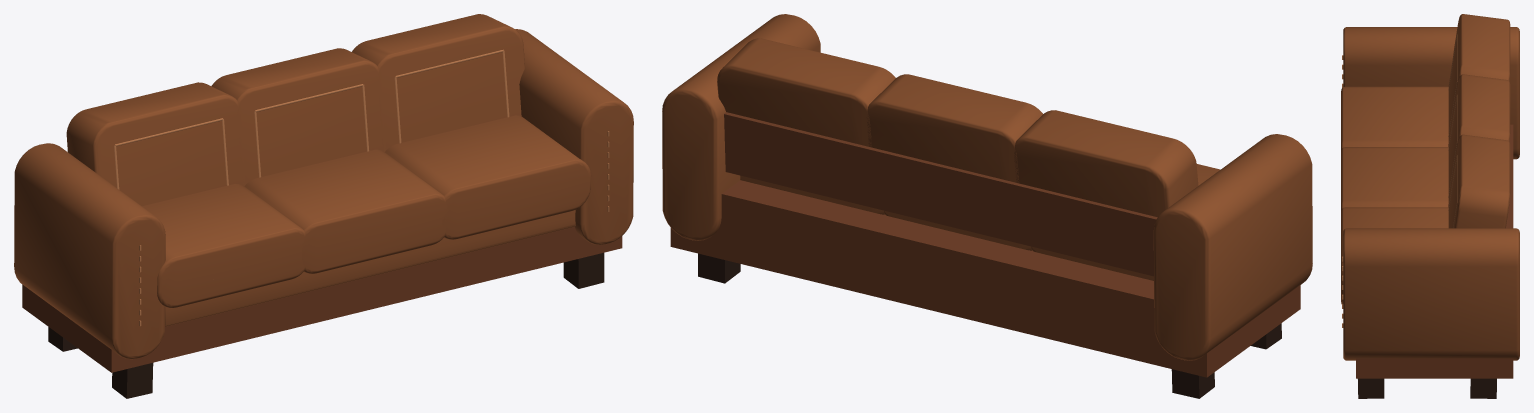
Rendered from cognac-leather-sofa-armRadius-max.glb.
3 views of the same model, side by side, from view 1: azimuth 30°, elevation 25°; view 2: azimuth 150°, elevation 25°; view 3: azimuth 270°, elevation 25° (orthographic). The views are drawn at different scales.
Visible parts, largest first — view 1: sofa-part-28, sofa-part-4, back-cushion-3-part-0, seat-cushion-1-part-0, seat-cushion-2-part-0, back-cushion-1-part-0, back-cushion-2-part-0, seat-cushion-3-part-0, sofa-part-7, sofa-part-5, sofa-part-0, sofa-part-2; view 2: sofa-part-4, sofa-part-6, sofa-part-28, back-cushion-3-part-0, back-cushion-1-part-0, back-cushion-2-part-0, sofa-part-7, sofa-part-3, seat-cushion-3-part-0, sofa-part-1, seat-cushion-2-part-0, seat-cushion-1-part-0; view 3: sofa-part-7, sofa-part-28, seat-cushion-2-part-0, seat-cushion-3-part-0, back-cushion-1-part-0, back-cushion-2-part-0, back-cushion-3-part-0, sofa-part-4, seat-cushion-1-part-0, sofa-part-0, sofa-part-1.
Part boxes in pixels (left/top/right/bottom): sofa-part-28: left=14, top=143, right=165, bottom=359; sofa-part-4: left=22, top=227, right=622, bottom=372; back-cushion-3-part-0: left=66, top=82, right=245, bottom=206; seat-cushion-1-part-0: left=385, top=115, right=590, bottom=239; seat-cushion-2-part-0: left=244, top=149, right=448, bottom=273; back-cushion-1-part-0: left=352, top=14, right=524, bottom=151; back-cushion-2-part-0: left=211, top=48, right=385, bottom=185; seat-cushion-3-part-0: left=142, top=184, right=305, bottom=308; sofa-part-7: left=515, top=29, right=633, bottom=244; sofa-part-5: left=165, top=210, right=575, bottom=326; sofa-part-0: left=563, top=252, right=604, bottom=288; sofa-part-2: left=112, top=363, right=153, bottom=398; sofa-part-4: left=670, top=180, right=1300, bottom=377; sofa-part-6: left=724, top=112, right=1157, bottom=276; sofa-part-28: left=1153, top=134, right=1312, bottom=360; back-cushion-3-part-0: left=1014, top=110, right=1198, bottom=217; back-cushion-1-part-0: left=717, top=38, right=895, bottom=146; back-cushion-2-part-0: left=866, top=74, right=1042, bottom=182; sofa-part-7: left=662, top=14, right=820, bottom=240; sofa-part-3: left=1171, top=369, right=1214, bottom=398; seat-cushion-3-part-0: left=1031, top=164, right=1220, bottom=280; sofa-part-1: left=698, top=253, right=740, bottom=283; seat-cushion-2-part-0: left=884, top=210, right=1031, bottom=250; seat-cushion-1-part-0: left=740, top=175, right=884, bottom=214; sofa-part-7: left=1343, top=228, right=1519, bottom=360; sofa-part-28: left=1343, top=27, right=1519, bottom=159; seat-cushion-2-part-0: left=1341, top=147, right=1448, bottom=211; seat-cushion-3-part-0: left=1341, top=86, right=1448, bottom=150; back-cushion-1-part-0: left=1448, top=134, right=1510, bottom=228; back-cushion-2-part-0: left=1448, top=74, right=1510, bottom=204; back-cushion-3-part-0: left=1448, top=14, right=1510, bottom=144; sofa-part-4: left=1356, top=124, right=1513, bottom=378; seat-cushion-1-part-0: left=1341, top=207, right=1448, bottom=304; sofa-part-0: left=1358, top=378, right=1384, bottom=398; sofa-part-1: left=1470, top=378, right=1496, bottom=398.
Bounding box in the file's own units: 2.64 × 1.08 × 0.886.
